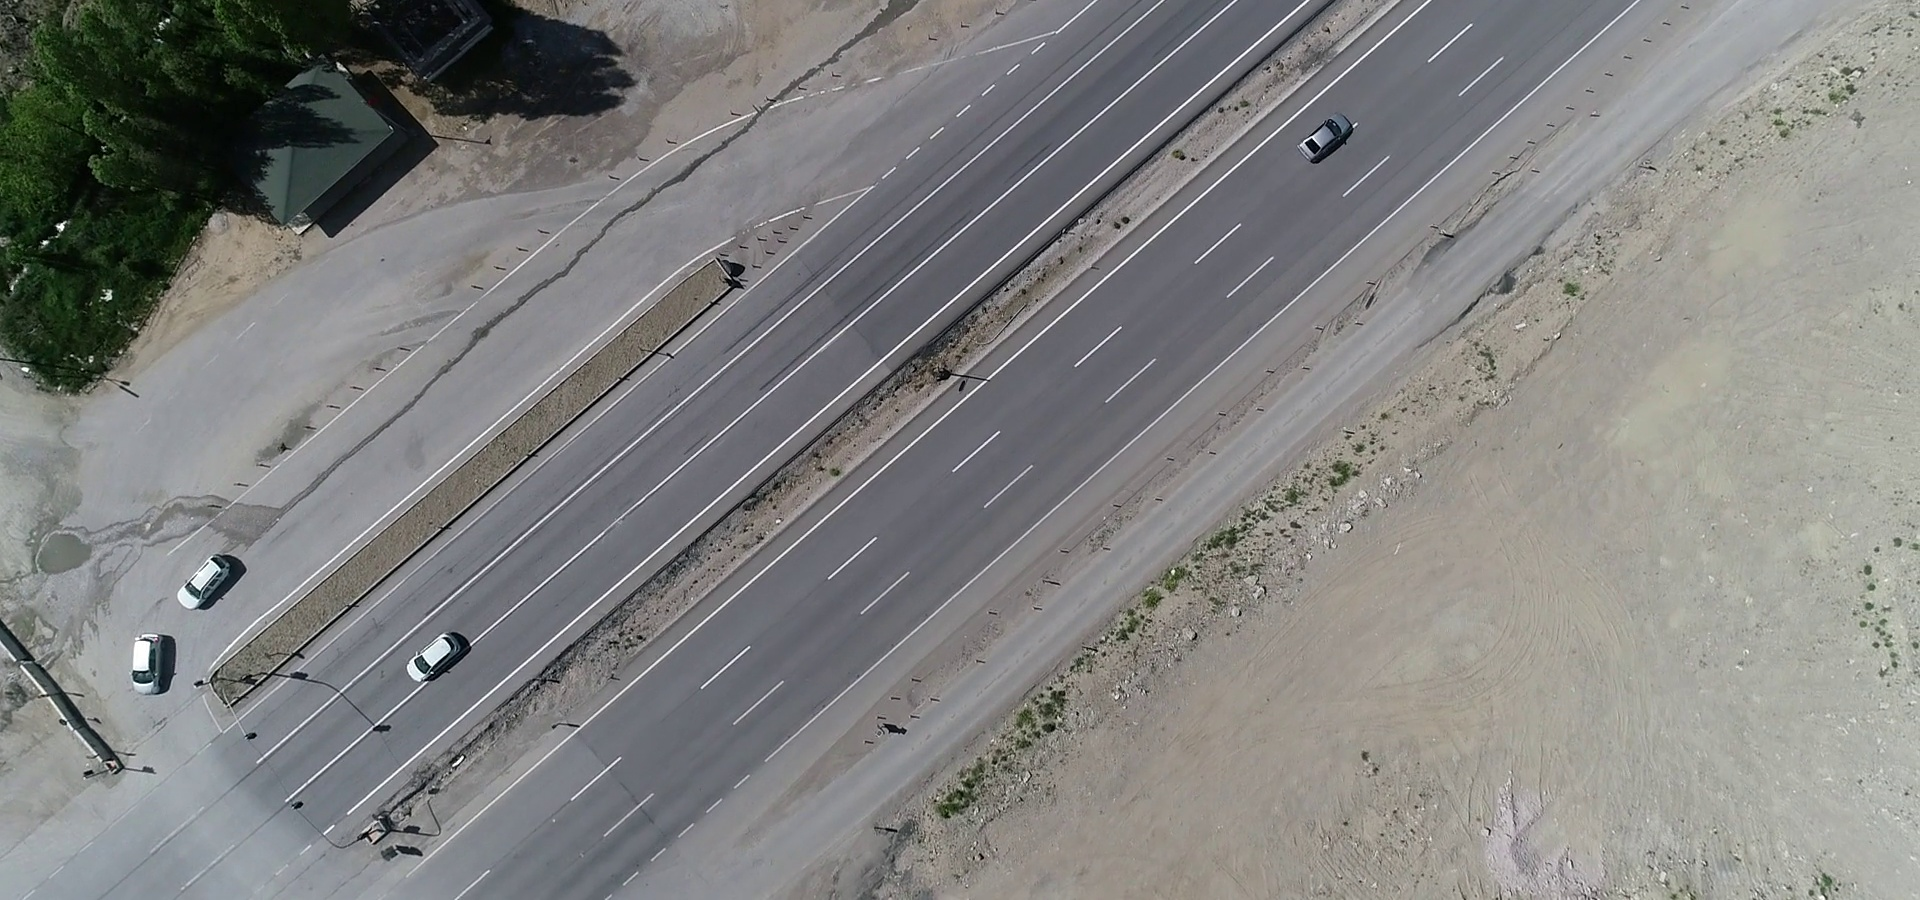arac: (167, 551, 235, 615), (122, 628, 176, 707), (400, 629, 471, 684), (1294, 113, 1360, 167)
